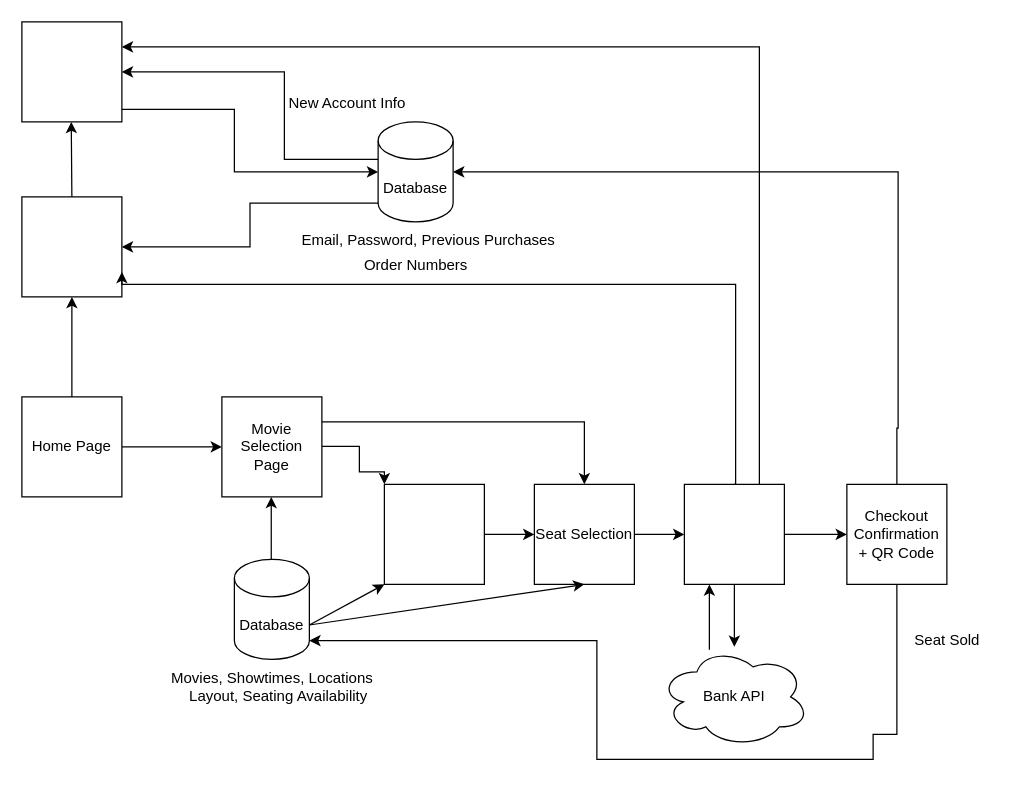
This 1019x791 diagram has some shape labels left out. Each missing label, with the centre of its shape:
Create Account: the point at 71,71
Display Nearest Theaters (User Geolocation): the point at 433,533
Movie Checkout: the point at 733,533
Sign In: the point at 71,246
